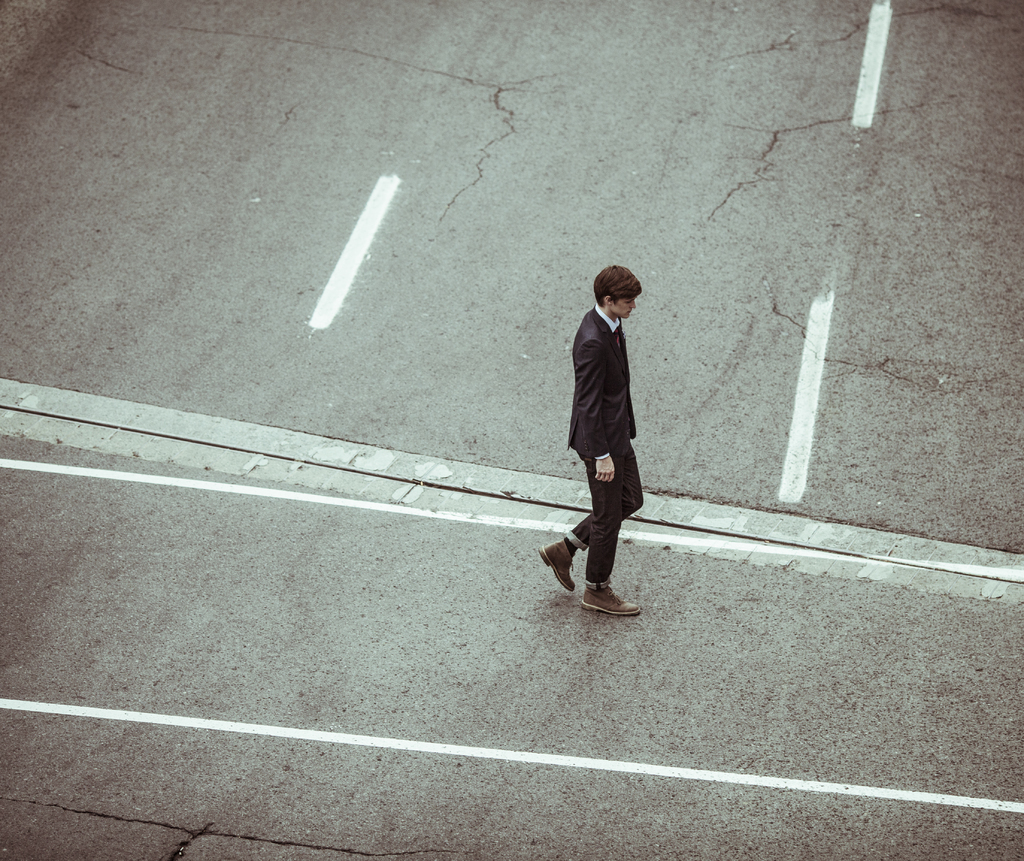person: (535, 263, 652, 615)
